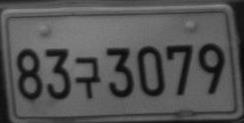0: (136, 45, 164, 97)
3: (106, 47, 134, 97), (45, 48, 71, 99)
7: (165, 44, 193, 95)
8: (16, 47, 43, 101)
9: (197, 42, 225, 94)
구: (74, 56, 100, 99)
